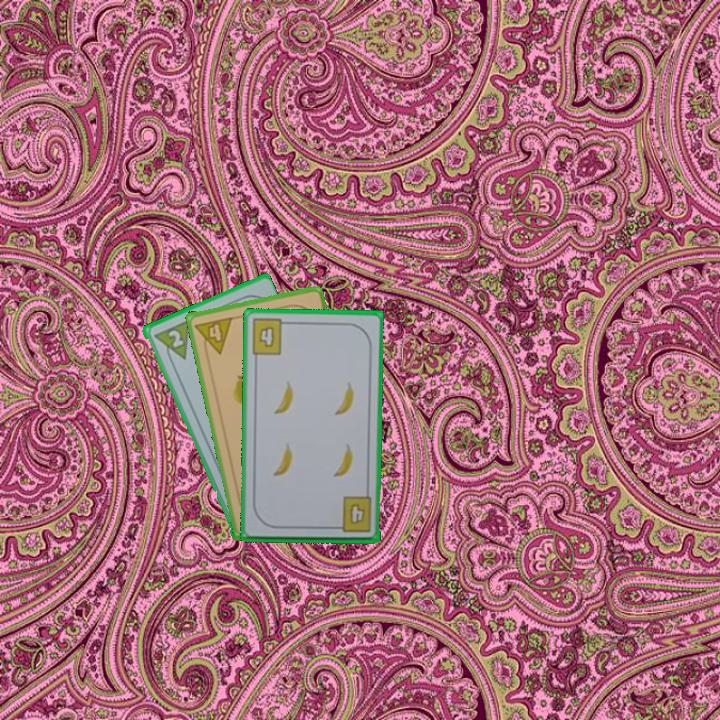2p: (164, 326, 186, 350)
4b: (248, 315, 292, 358), (330, 493, 374, 536)
4p: (191, 313, 236, 359)
